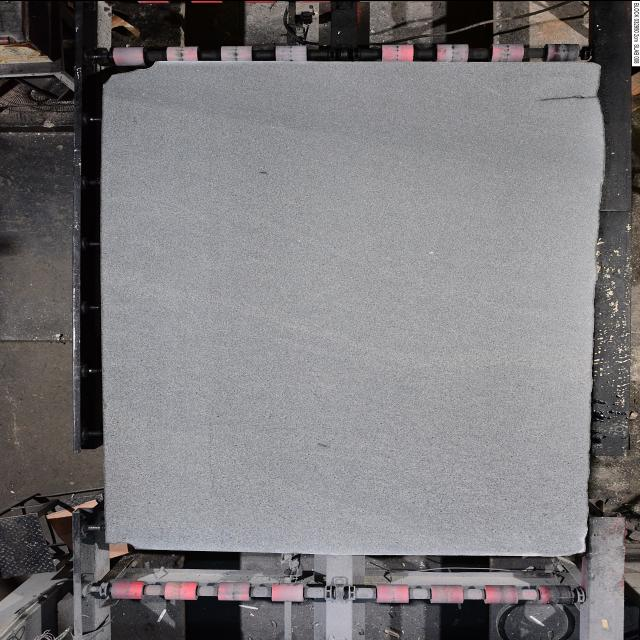chapa: (100, 60, 604, 555)
